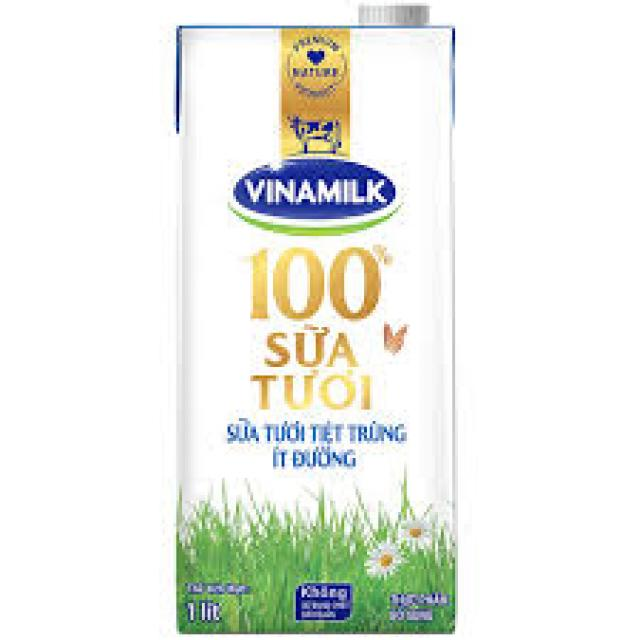non_white_jug: (154, 8, 476, 640)
